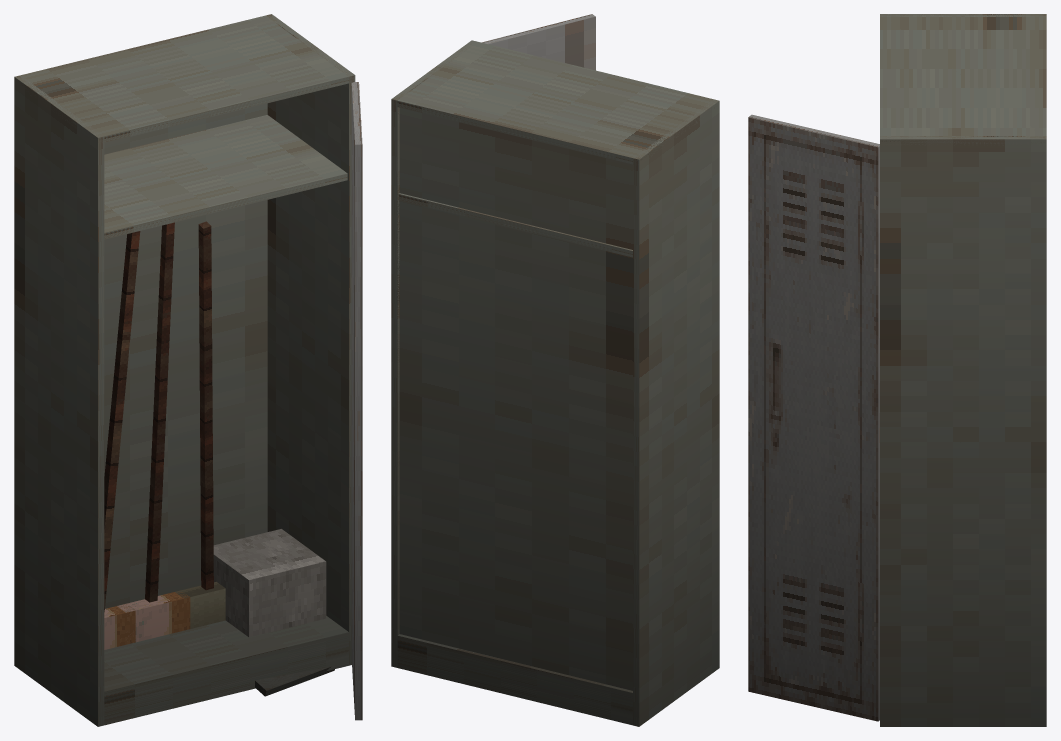
Rendered from prop_cleaning_locker-1.glb.
3 renders of one model, left to right at view 1: azimuth 30°, elevation 25°; view 2: azimuth 150°, elevation 25°; view 3: azimuth 270°, elevation 25°, orthographic. The views are drawn at different scales.
Parts seen in each view (by area): view 1: prop_cleaning_locker-1; view 2: prop_cleaning_locker-1; view 3: prop_cleaning_locker-1.
Boxes of the visible parts, <box> form: prop_cleaning_locker-1: <box>14,14,362,726</box>; prop_cleaning_locker-1: <box>391,14,719,726</box>; prop_cleaning_locker-1: <box>748,14,1046,726</box>.
Bounding box in the file's own units: 0.8088 × 1.76 × 0.8058.
7 materials, 7 textured.
